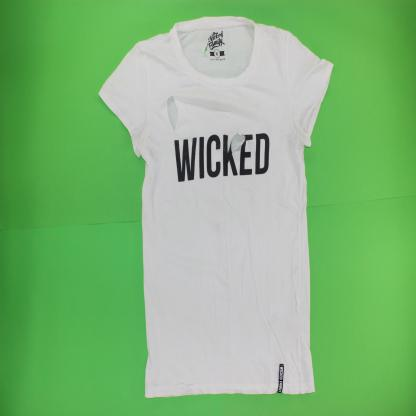hole: (165, 92, 180, 136), (228, 131, 248, 158), (203, 32, 212, 55)
